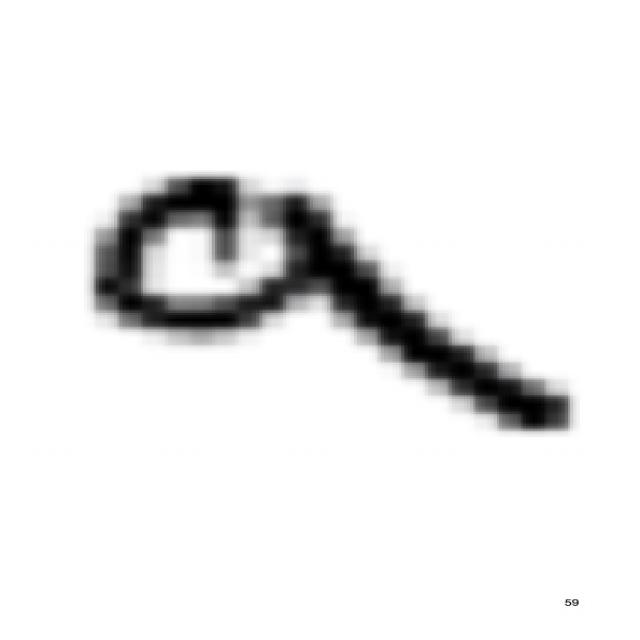9 -nine-: (64, 152, 600, 451)
